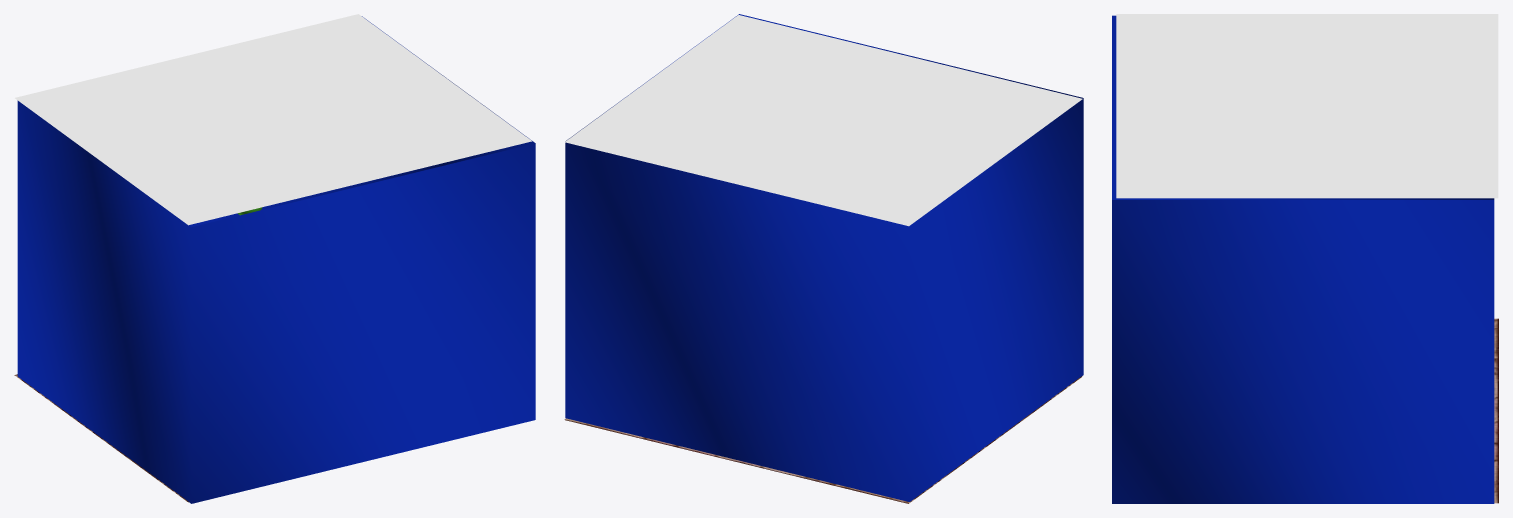
The picture shows the model from 3 angles, left to right: view 1: azimuth 30°, elevation 25°; view 2: azimuth 150°, elevation 25°; view 3: azimuth 270°, elevation 25°; orthographic projection. The views are drawn at different scales.
Parts seen in each view (by area): view 1: Murs, Plafond; view 2: Murs, Plafond, Sol; view 3: Murs, Plafond, Sol.
Part boxes in pixels (x1,y1,x2,y2): Murs: (17,16,535,503); Plafond: (15,14,531,225); Murs: (565,14,1083,501); Plafond: (565,15,1082,226); Sol: (564,376,1082,503); Murs: (1112,15,1494,503); Plafond: (1116,14,1498,198); Sol: (1494,318,1498,503).
Size of the model in its own units: 8.11 by 6.23 by 7.16.
7 materials, 2 textured.
